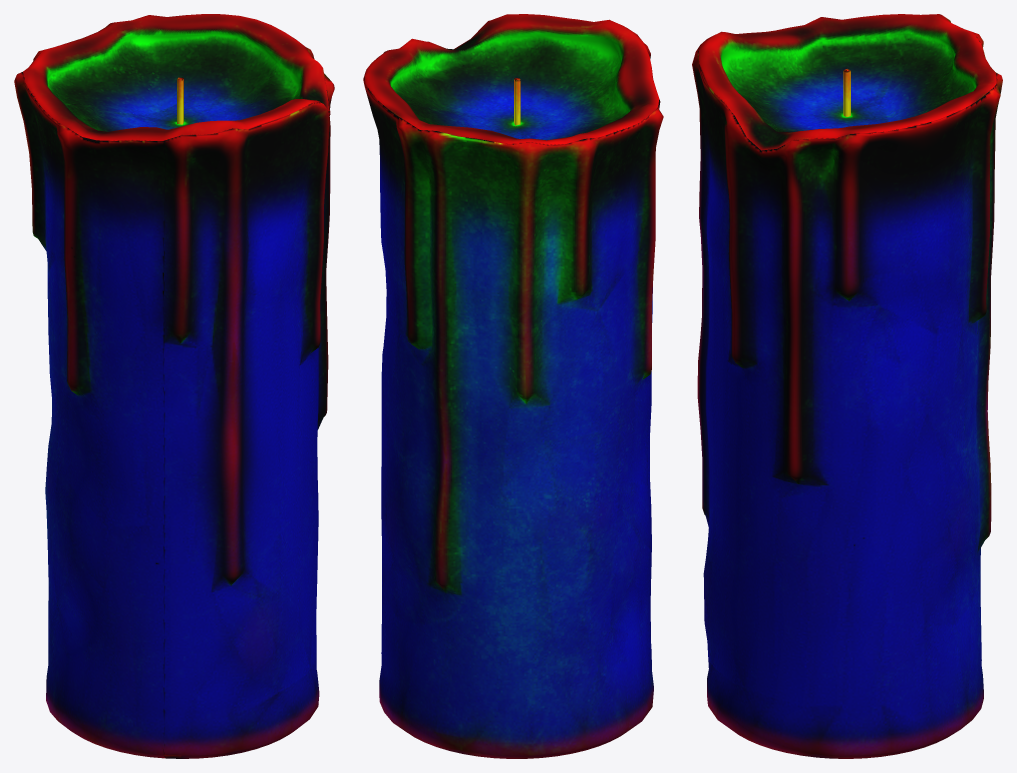
File: SM_Candle_A.fbx
The picture shows the model from 3 angles, left to right: view 1: azimuth 30°, elevation 25°; view 2: azimuth 150°, elevation 25°; view 3: azimuth 270°, elevation 25°; orthographic projection.
Visible parts, largest first — view 1: SM_Candle_A_LOD0; view 2: SM_Candle_A_LOD0; view 3: SM_Candle_A_LOD0.
Part boxes in pixels (box(x1,y1,x2,y2)): SM_Candle_A_LOD0: box(14, 14, 334, 758); SM_Candle_A_LOD0: box(363, 14, 663, 758); SM_Candle_A_LOD0: box(692, 14, 1002, 758).
Bounding box in the file's own units: 12.27 × 12.33 × 28.3.
1 material, 1 textured.
